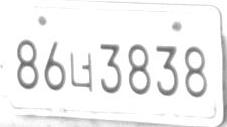3: (155, 45, 179, 97), (99, 43, 122, 94)
6: (43, 40, 66, 90)
8: (127, 44, 151, 95), (16, 38, 39, 89), (184, 46, 207, 97)
너: (69, 52, 92, 91)
